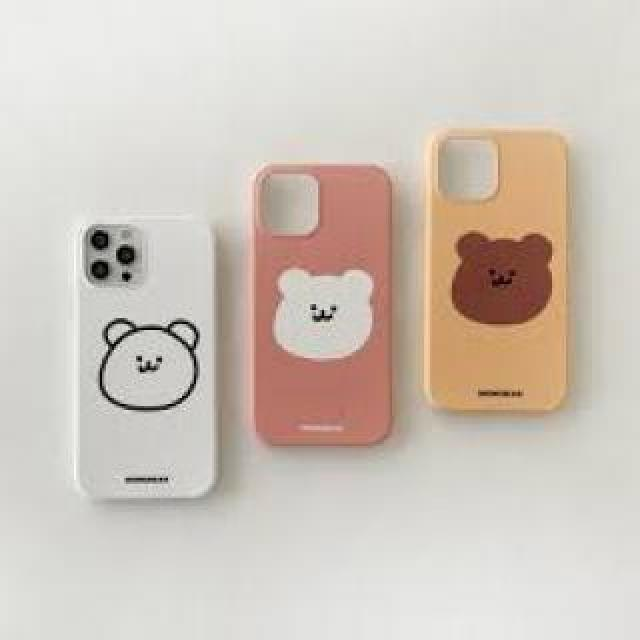smart phone: (50, 192, 245, 550)
